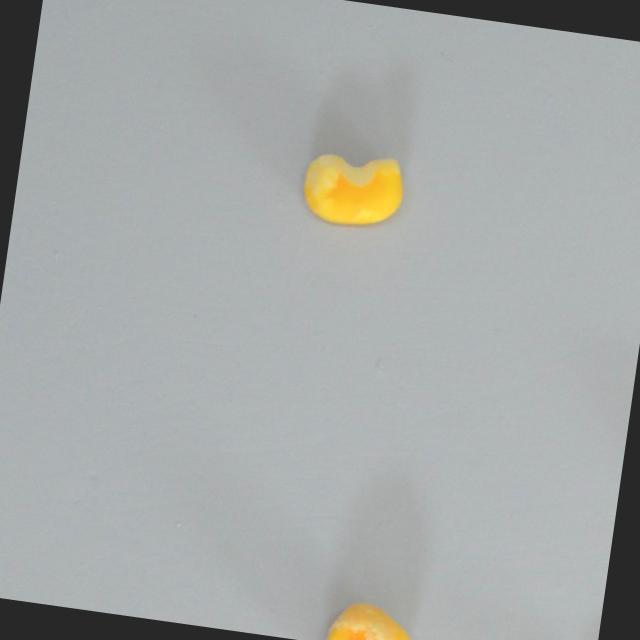no_canjicado: (297, 142, 409, 236)
pelicula: (318, 595, 422, 640)
